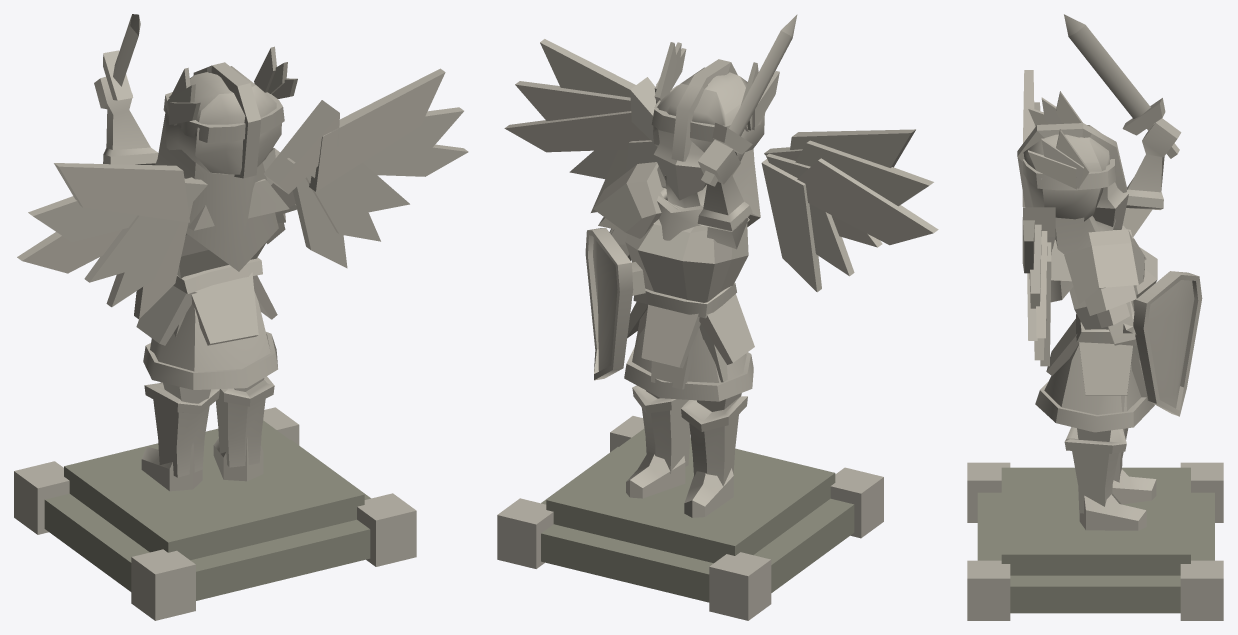
Rendered from statue_valkyrie.fbx.
3 views of the same model, side by side, from view 1: azimuth 30°, elevation 25°; view 2: azimuth 150°, elevation 25°; view 3: azimuth 270°, elevation 25° (orthographic). The views are drawn at different scales.
Parts seen in each view (by area): view 1: polySurface1208; view 2: polySurface1208; view 3: polySurface1208.
Part boxes in pixels (x1,y1,x2,y2): polySurface1208: (14,14,468,620); polySurface1208: (497,14,938,620); polySurface1208: (967,14,1223,620).
Bounding box in the file's own units: 139 × 166 × 76.06.
1 material, 1 textured.
